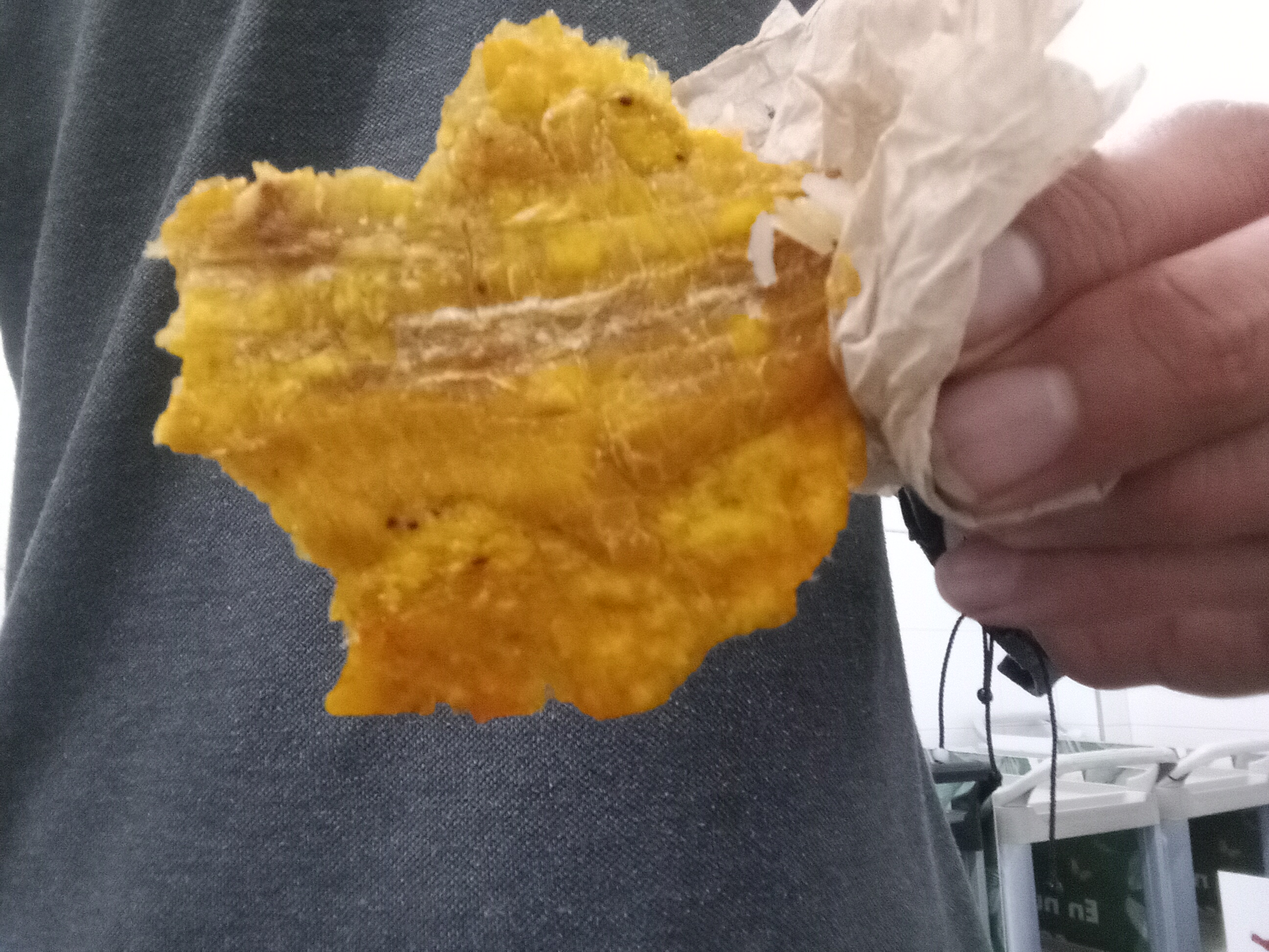Organico: (147, 12, 871, 721)
